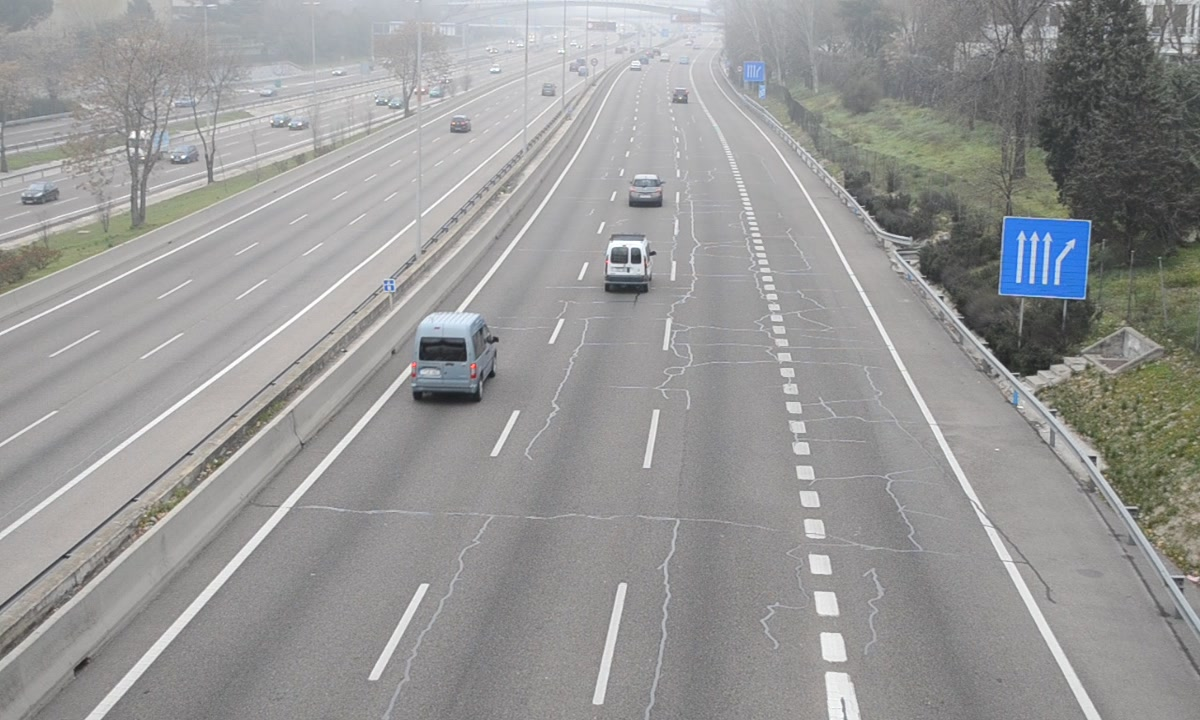car: (628, 174, 665, 209)
van: (409, 313, 498, 396), (603, 238, 653, 289)
